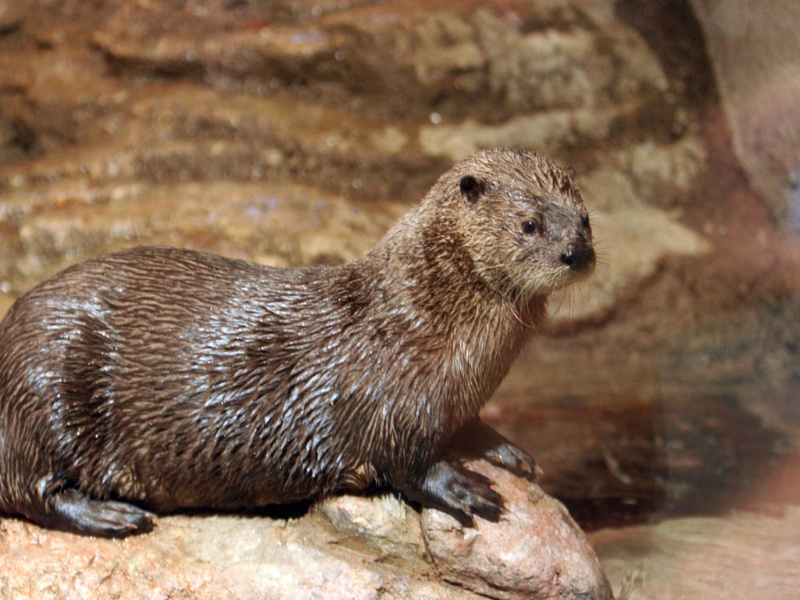minkish: (1, 146, 604, 530)
